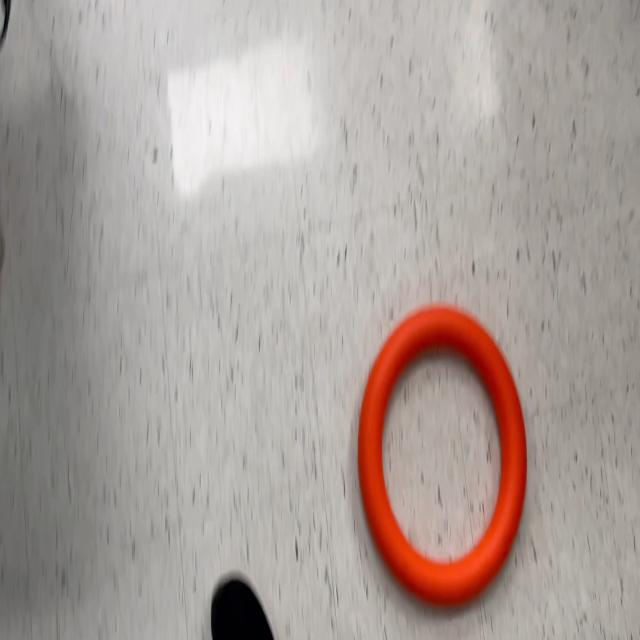note: (356, 304, 530, 612)
